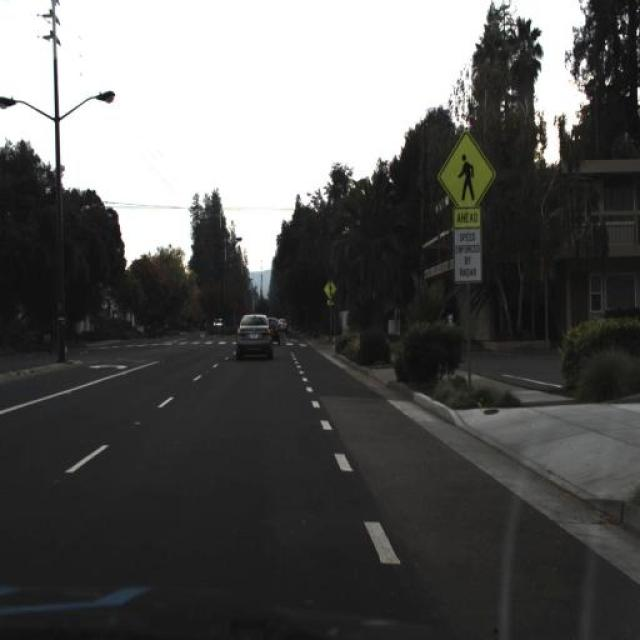car: (230, 303, 276, 377), (206, 312, 230, 342), (266, 308, 280, 348), (268, 313, 281, 355), (279, 309, 290, 341)
